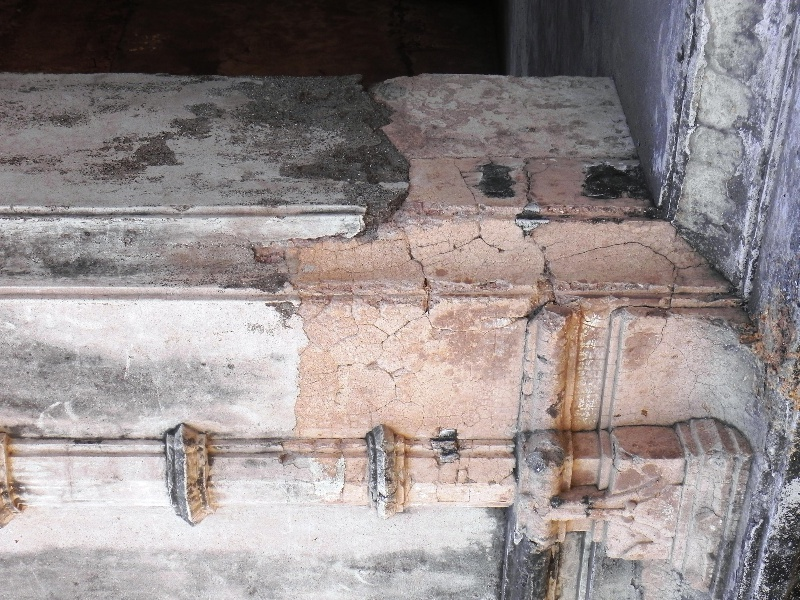Spalling: (518, 255, 562, 330), (432, 418, 468, 473)
